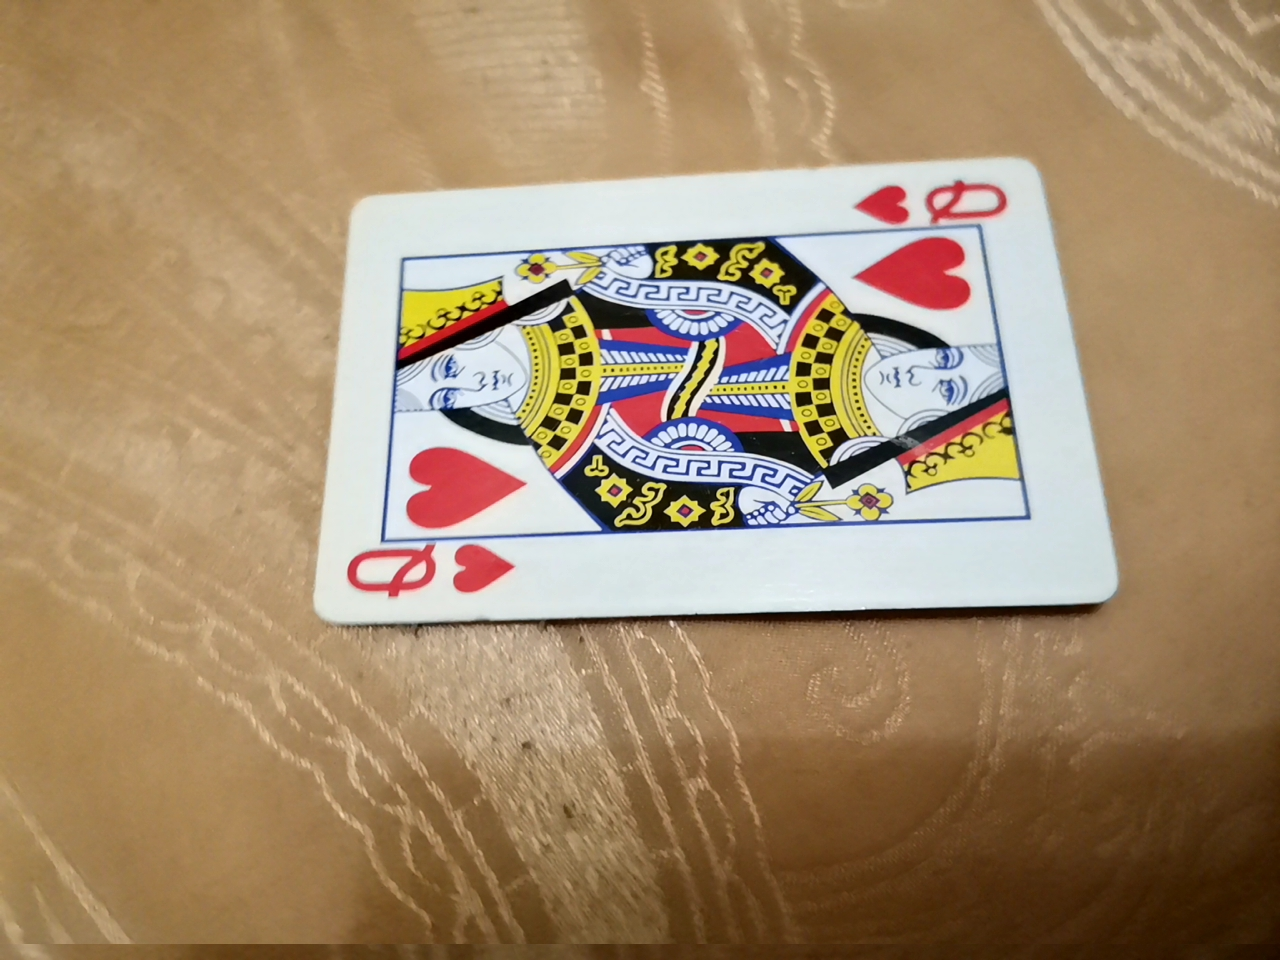hx q: (296, 151, 1112, 643)
